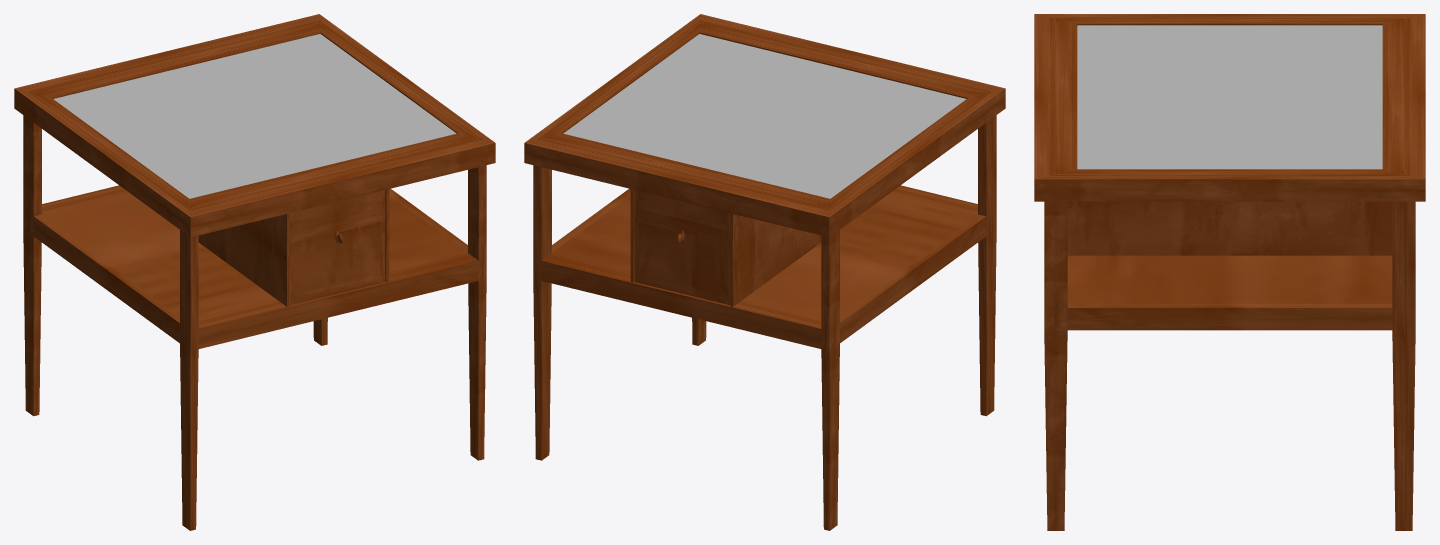
File: sh-scopia-saloon-table.glb
3 views of the same model, side by side, from view 1: azimuth 30°, elevation 25°; view 2: azimuth 150°, elevation 25°; view 3: azimuth 270°, elevation 25° (orthographic). The views are drawn at different scales.
Visible parts, largest first — view 1: table2_Cube.001, glass2_Cube; view 2: table2_Cube.001, glass2_Cube; view 3: table2_Cube.001, glass2_Cube.
Boxes of the visible parts, box(x1,y1,x2,y2) form: table2_Cube.001: box(14, 14, 495, 530); glass2_Cube: box(53, 34, 456, 198); table2_Cube.001: box(524, 14, 1005, 530); glass2_Cube: box(563, 34, 966, 198); table2_Cube.001: box(1034, 14, 1425, 530); glass2_Cube: box(1077, 25, 1382, 169).
Bounding box in the file's own units: 1 × 1 × 1.
Materials: 2 (1 with a texture image).
